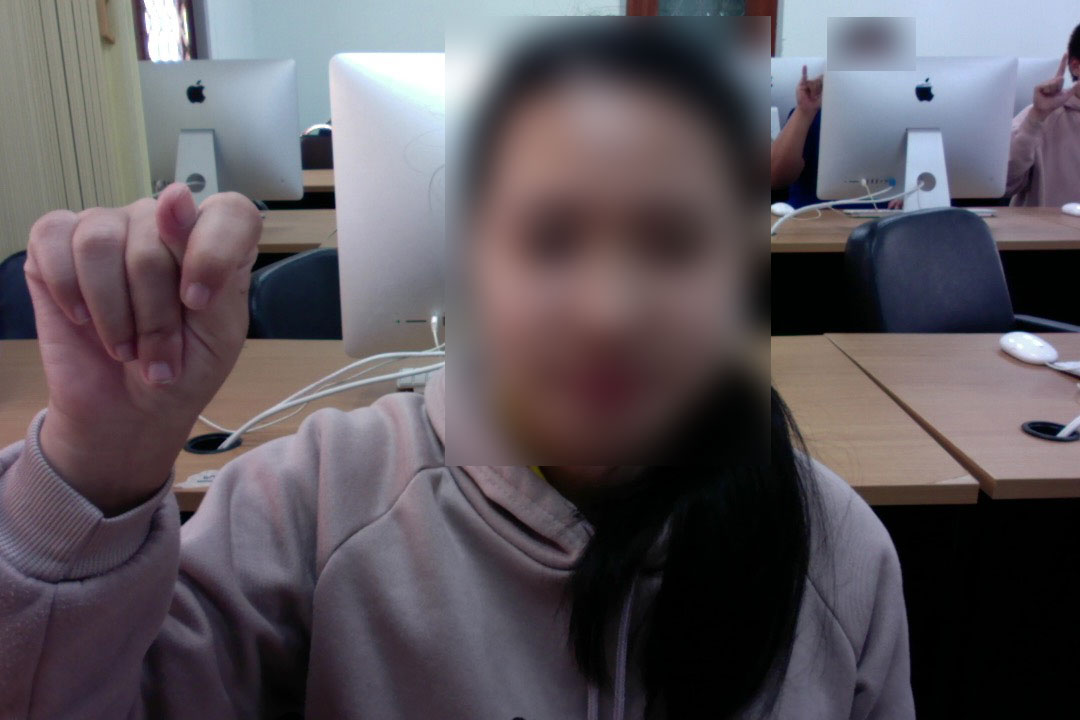tor: (16, 178, 270, 452)
